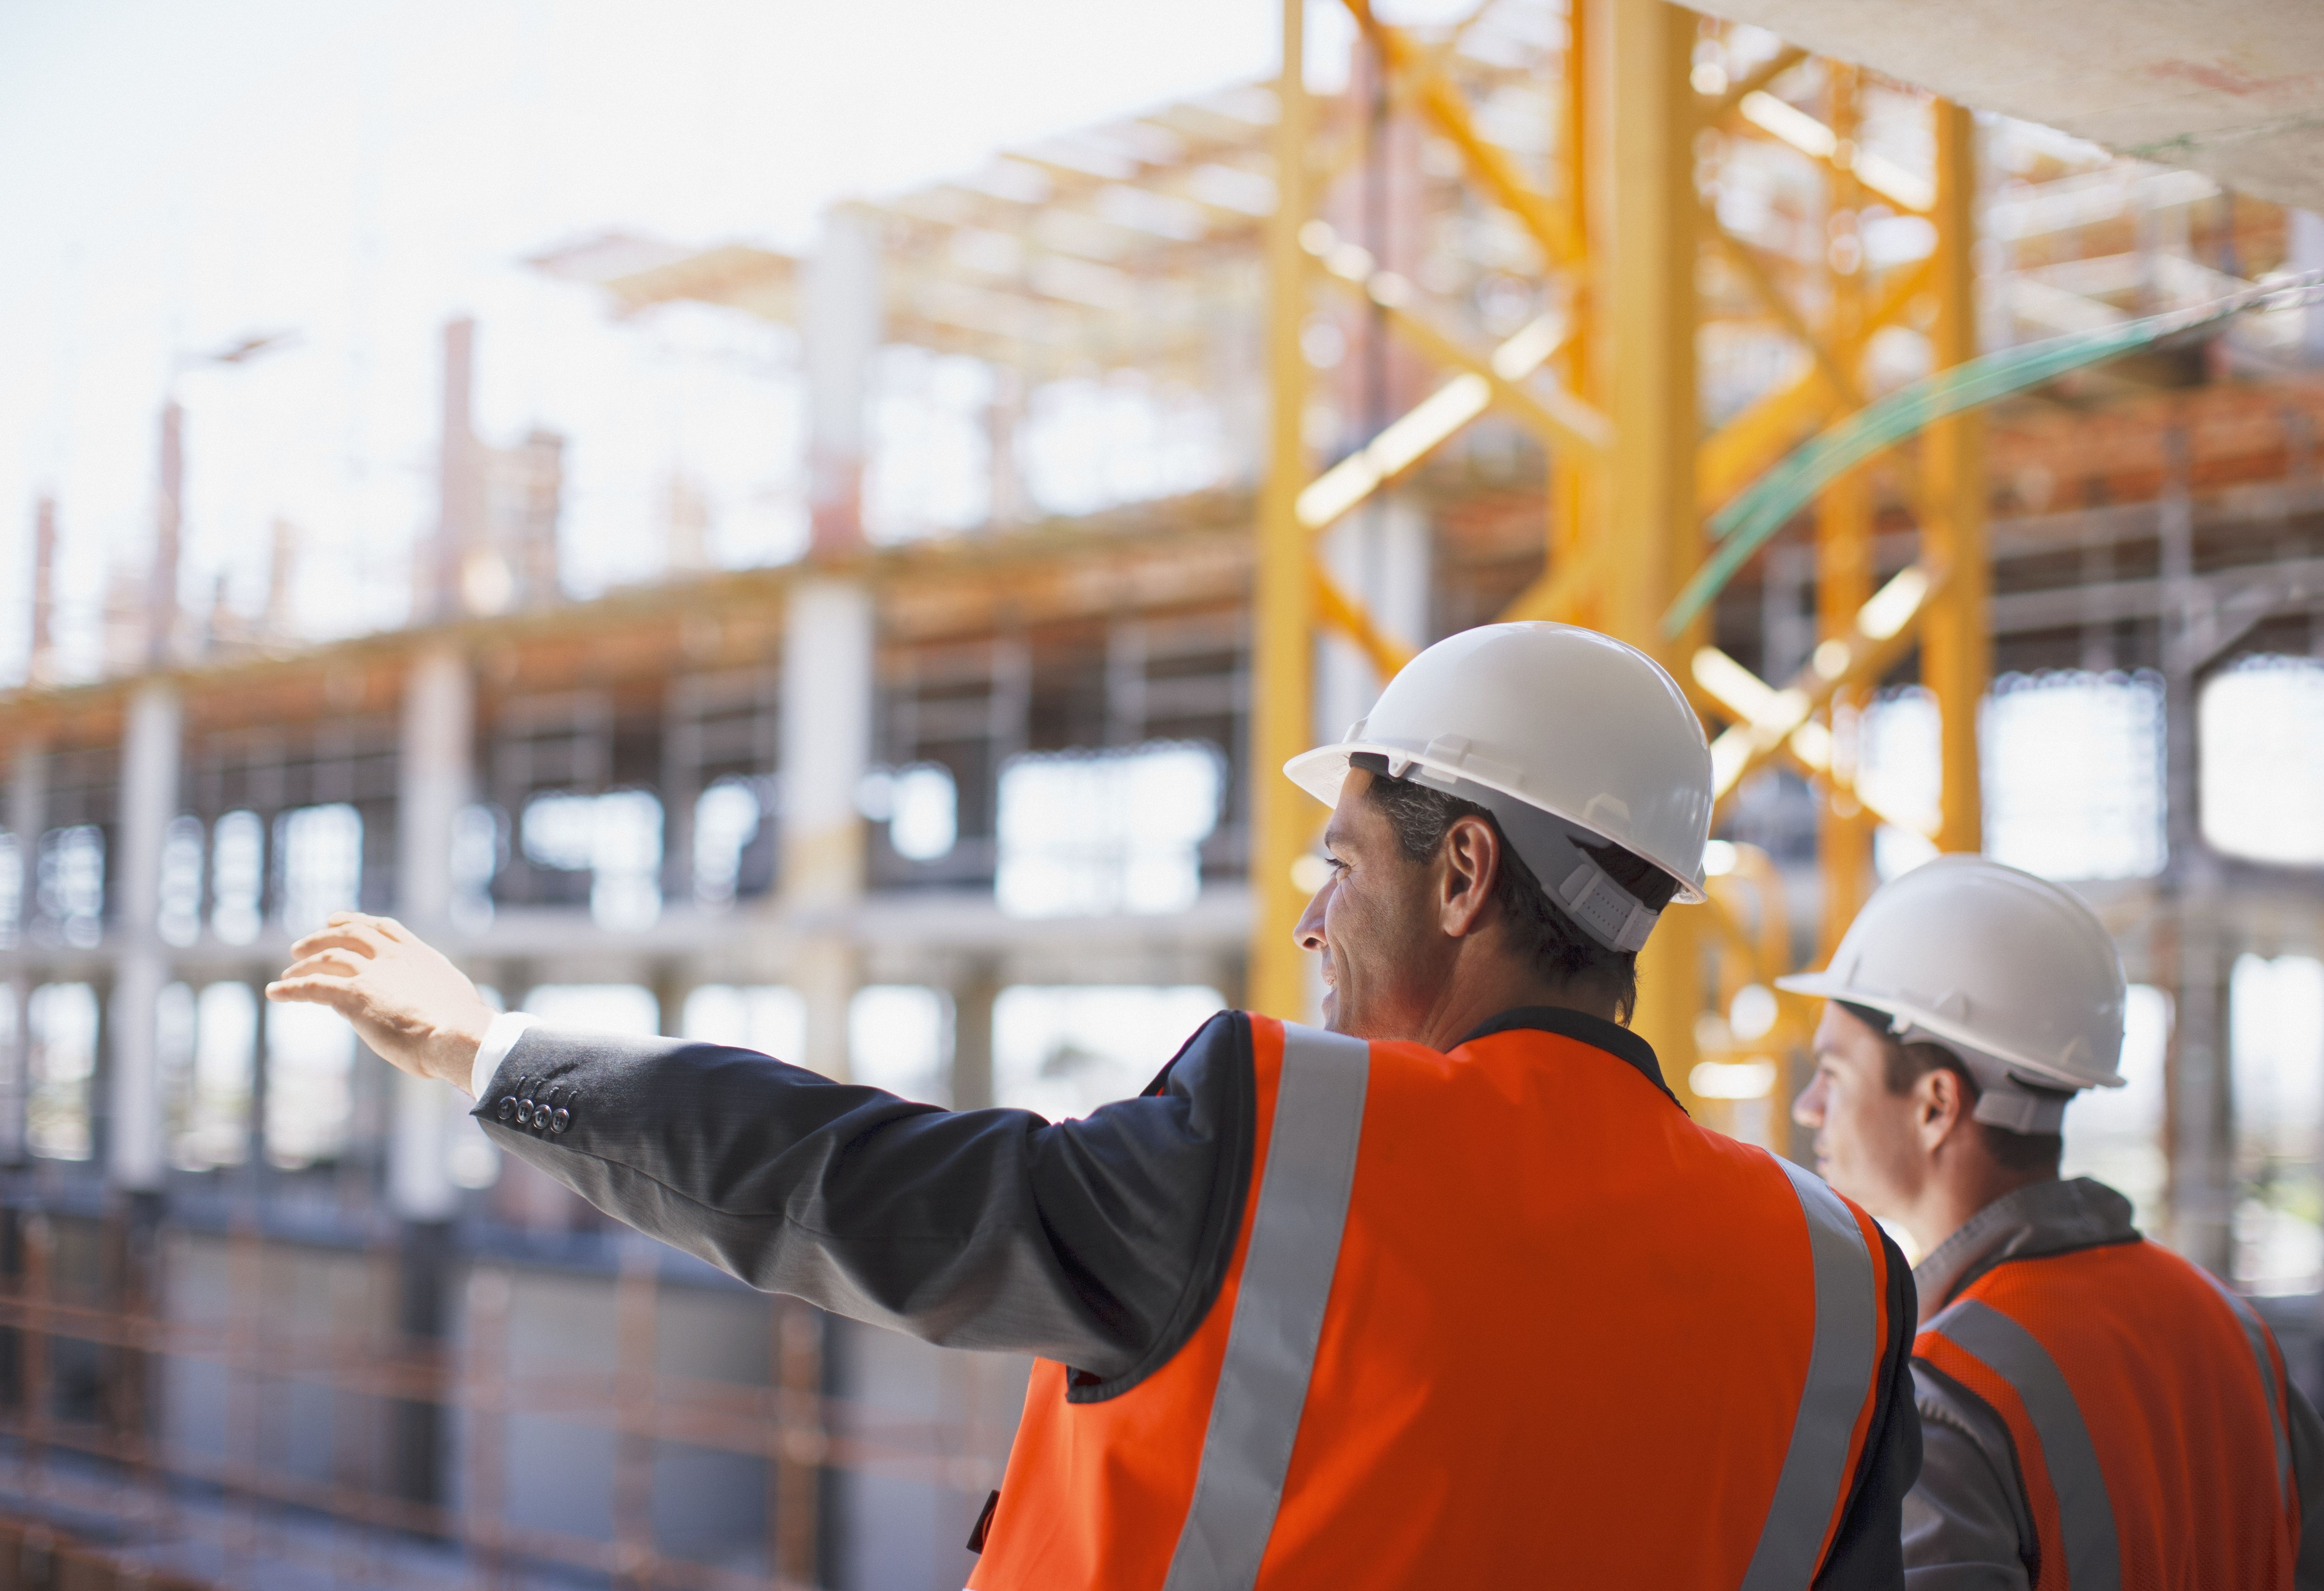white: (1303, 611, 1722, 1049), (1800, 851, 2133, 1238)
